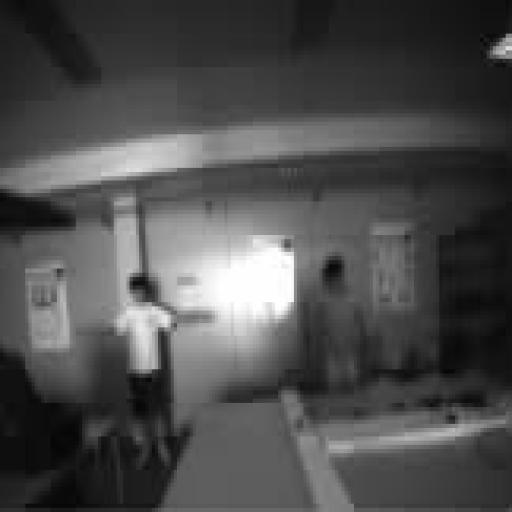human: (114, 273, 176, 465), (317, 256, 366, 390)
